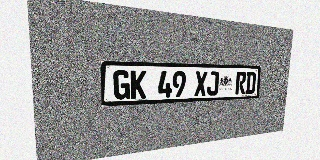4: (158, 71, 172, 98)
9: (172, 71, 186, 97)
D: (245, 72, 256, 94)
G: (113, 70, 130, 100)
J: (207, 71, 219, 96)
K: (131, 70, 146, 99)
R: (235, 72, 246, 94)
X: (194, 71, 207, 96)
